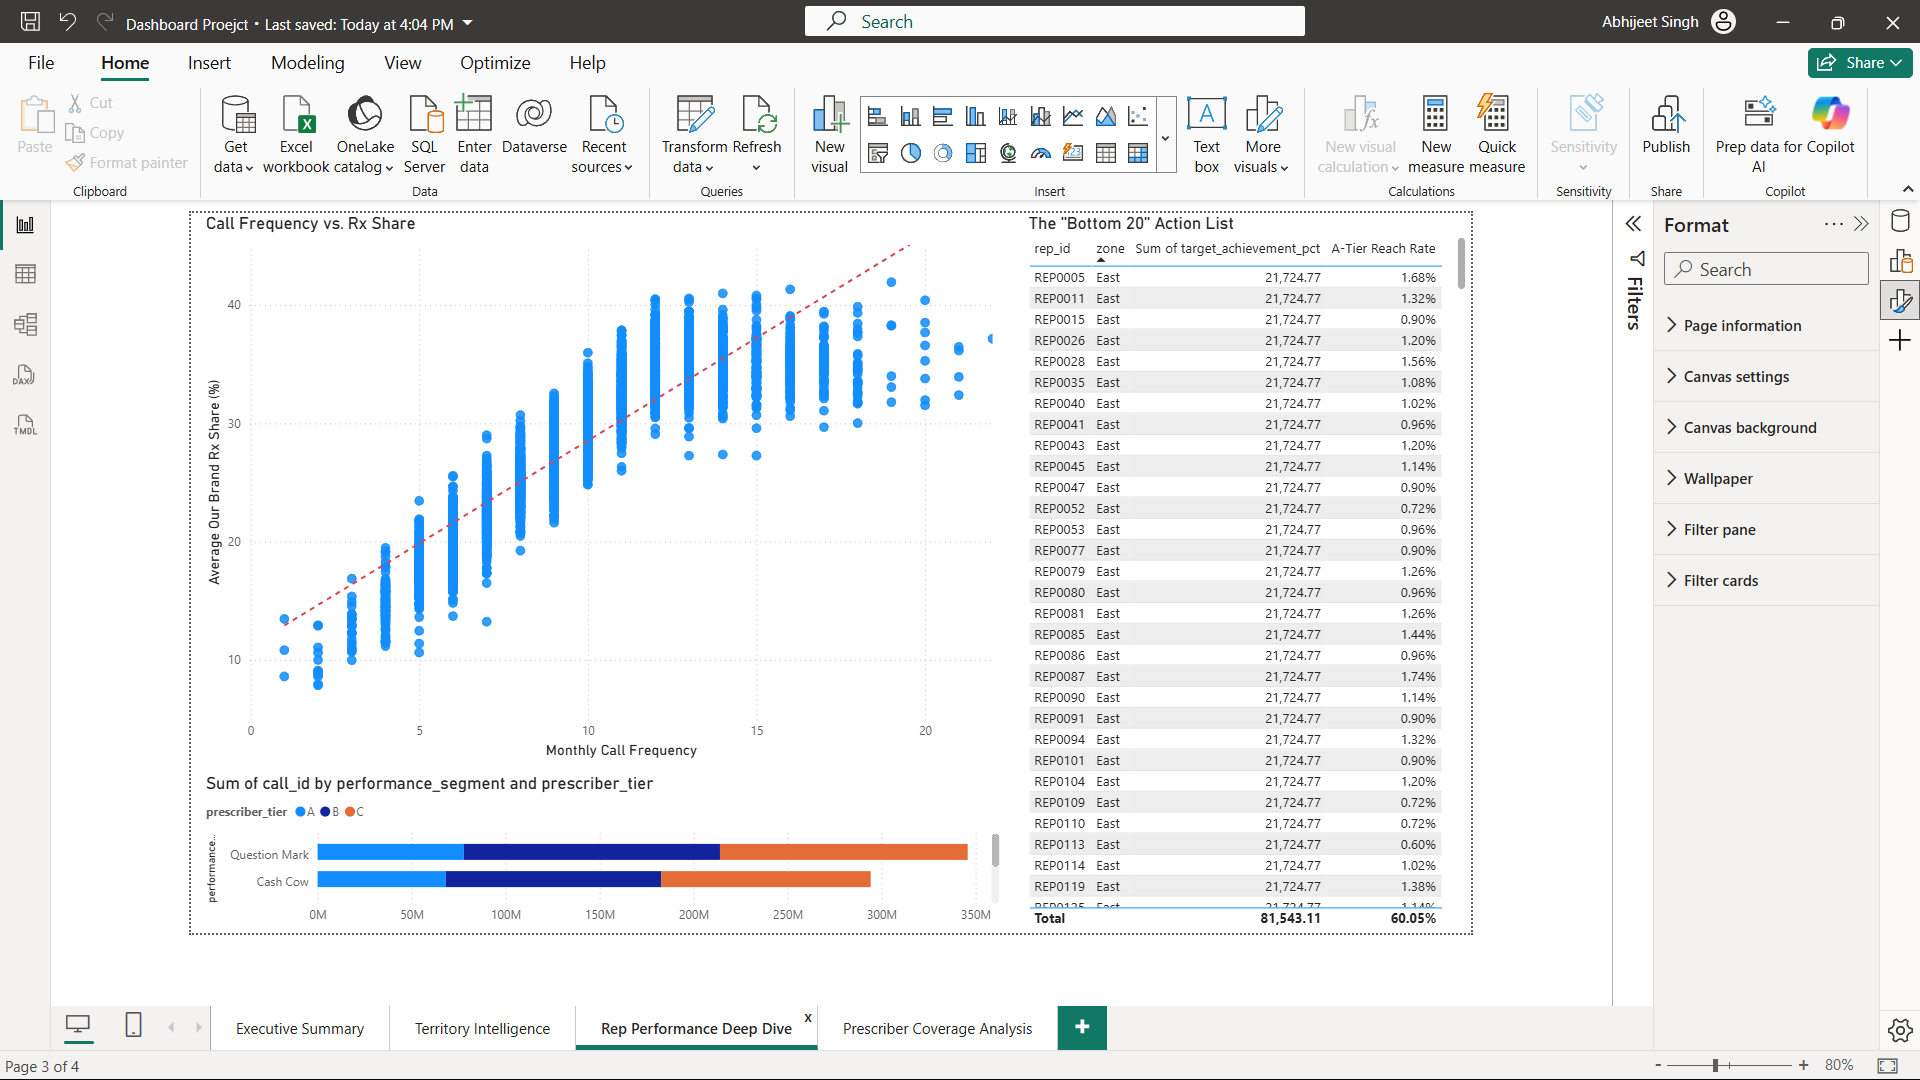

Layout of this report page (visuals, bound fields, positions):
{"tool":"powerbi","page":{"name":"Rep Performance Deep Dive","canvas":[1280,720],"ordinal":2},"visuals":[{"type":"scatterChart","title":"Call Frequency vs. Rx Share","fields":{"X":["CountNonNull(calls_fact.call_id)"],"Y":["prescribers_dim.our_brand_rx_share"],"Category":["prescribers_dim.prescriber_id"]},"box":[10,0,803.8,550],"z":0},{"type":"barChart","fields":{"Category":["reps_dim.performance_segment"],"Y":["Sum(calls_fact.call_id)"],"Series":["prescribers_dim.prescriber_tier"]},"box":[10,560,803.8,160],"z":1000},{"type":"tableEx","title":"The \"Bottom 20\" Action List","fields":{"Values":["reps_dim.rep_id","territories_dim.zone","Sum(sales_fact.target_achievement_pct)","_Measure.A-Tier Reach Rate"]},"box":[832.5,0,447.5,720],"z":2000}]}

Visuals, with their boxes on the page's 1280x720 design canvas (x1, y1, x2, y2). These are canvas units, not pixel positions in the 1920x1080 screenshot, which may show the page scaled, cropped or inside an application window:
"Call Frequency vs. Rx Share" scatterChart: pyautogui.locateOnScreen(10, 0, 814, 550)
barChart - reps_dim.performance_segment x Sum(calls_fact.call_id): pyautogui.locateOnScreen(10, 560, 814, 720)
"The "Bottom 20" Action List" tableEx: pyautogui.locateOnScreen(832, 0, 1280, 720)
